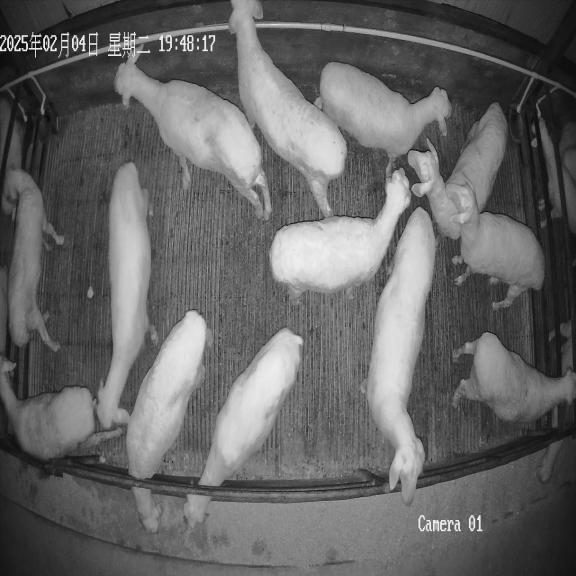eating: (184, 328, 303, 528), (126, 310, 213, 533)
stand: (229, 0, 347, 217), (114, 57, 271, 220), (361, 207, 435, 505), (269, 169, 411, 301), (96, 163, 158, 429), (314, 62, 451, 163), (408, 103, 508, 240), (445, 178, 544, 310), (0, 356, 123, 460), (453, 332, 576, 422), (5, 170, 60, 351)
